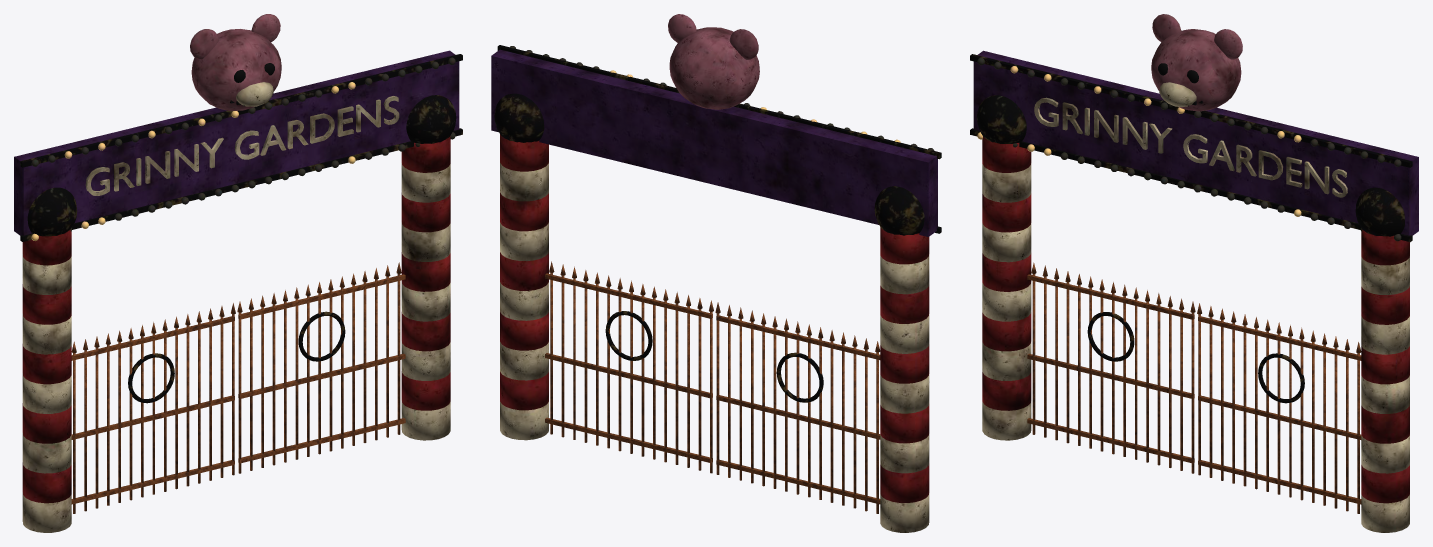
File: arch.glb
3 renders of one model, left to right at view 1: azimuth 30°, elevation 25°; view 2: azimuth 150°, elevation 25°; view 3: azimuth 330°, elevation 25°, orthographic.
Parts seen in each view (by area): view 1: Main, DoorR, DoorL; view 2: Main, DoorR, DoorL; view 3: Main, DoorL, DoorR.
Part boxes in pixels (x1,y1,x2,y2): Main: (14, 14, 462, 532); DoorR: (237, 262, 405, 473); DoorL: (71, 303, 235, 513); Main: (491, 14, 941, 532); DoorR: (545, 261, 713, 473); DoorL: (715, 302, 880, 513); Main: (970, 14, 1418, 532); DoorL: (1027, 262, 1195, 473); DoorR: (1197, 303, 1361, 513).
Size of the model in its own units: 9.3 by 9.15 by 1.65.
3 materials, 3 textured.
